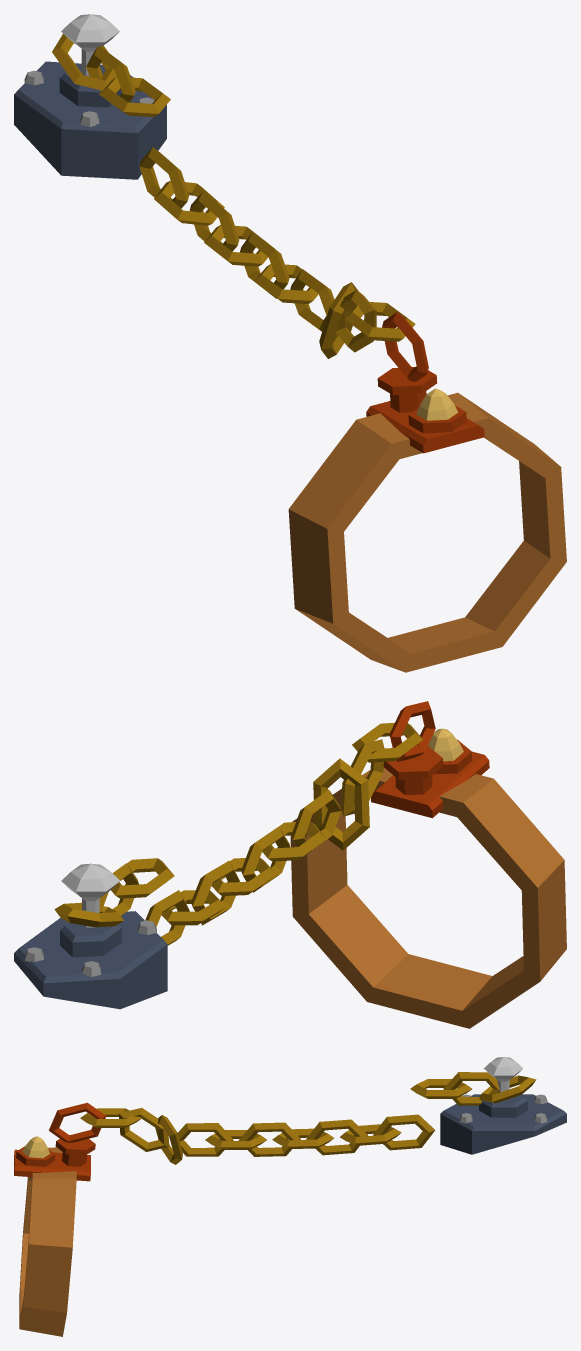
File: chain-tendon-c538a3.glb
3 renders of one model, top to bottom at view 1: azimuth 30°, elevation 25°; view 2: azimuth 150°, elevation 25°; view 3: azimuth 270°, elevation 25°, orthographic. The views are drawn at different scales.
Parts seen in each view (by area): view 1: middle-finger-phalanx-proximal, soft:middle-finger, middle-finger-metacarpal; view 2: middle-finger-phalanx-proximal, soft:middle-finger, middle-finger-metacarpal; view 3: middle-finger-phalanx-proximal, soft:middle-finger, middle-finger-metacarpal.
Boxes of the visible parts, box(x1,y1,x2,y2) form: middle-finger-phalanx-proximal: box(288, 312, 566, 672); soft:middle-finger: box(52, 34, 415, 358); middle-finger-metacarpal: box(14, 14, 166, 179); middle-finger-phalanx-proximal: box(290, 701, 566, 1028); soft:middle-finger: box(54, 722, 422, 945); middle-finger-metacarpal: box(14, 863, 167, 1009); middle-finger-phalanx-proximal: box(14, 1102, 106, 1336); soft:middle-finger: box(80, 1072, 536, 1164); middle-finger-metacarpal: box(440, 1057, 566, 1154).
Bounding box in the file's own units: 0.0227 × 0.0344 × 0.0654.
